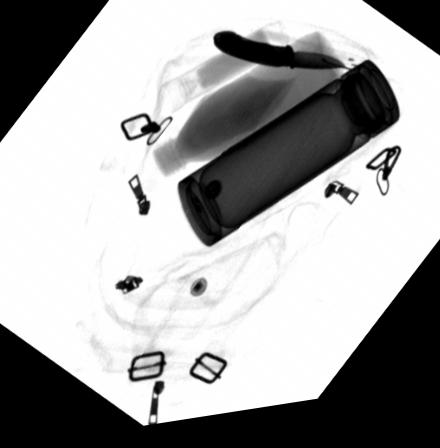Knife: (212, 36, 349, 81)
